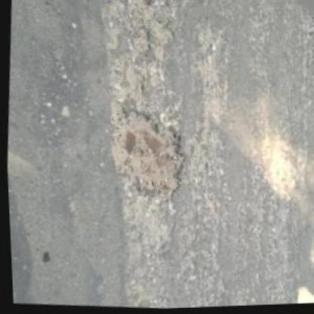Hueco: (100, 101, 190, 208), (121, 0, 179, 60)
